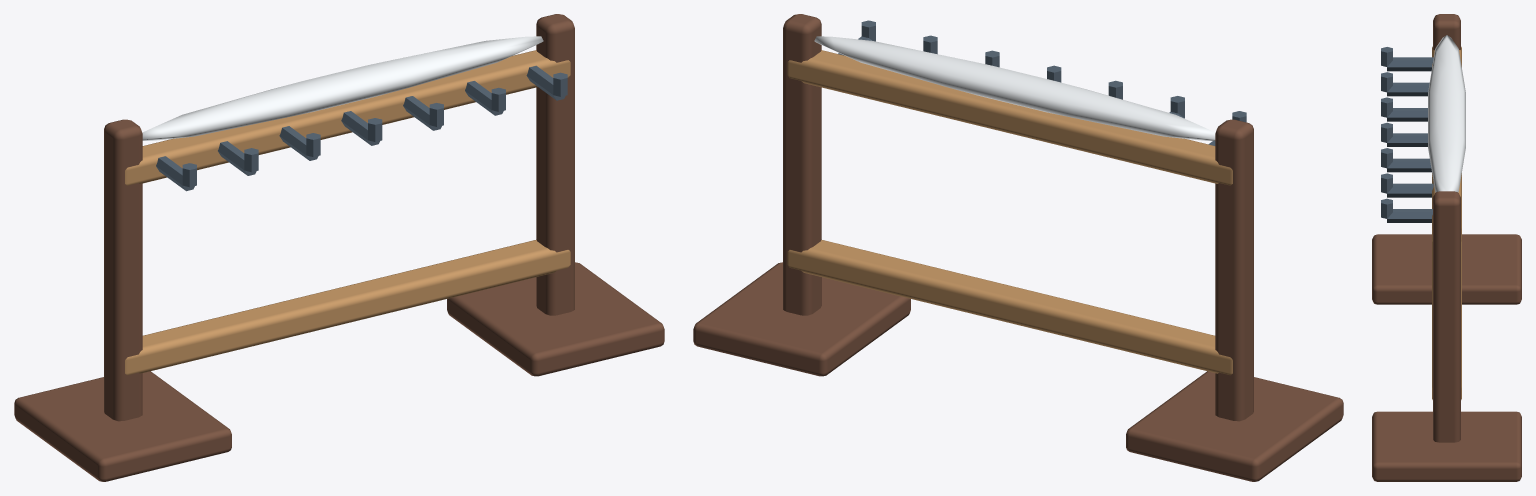
File: alpine-snow-village-seven-bay-ski-rack-403c4e06__19833.glb
3 renders of one model, left to right at view 1: azimuth 30°, elevation 25°; view 2: azimuth 150°, elevation 25°; view 3: azimuth 270°, elevation 25°, orthographic. The views are drawn at different scales.
Parts seen in each view (by area): view 1: seven-bay-ski-rack-wood, seven-bay-ski-rack-oak, seven-bay-ski-rack-snow, seven-bay-ski-rack-iron; view 2: seven-bay-ski-rack-wood, seven-bay-ski-rack-oak, seven-bay-ski-rack-snow, seven-bay-ski-rack-iron; view 3: seven-bay-ski-rack-wood, seven-bay-ski-rack-iron, seven-bay-ski-rack-snow, seven-bay-ski-rack-oak.
Boxes of the visible parts, x1,y1,x2,y2 form: seven-bay-ski-rack-wood: (14, 14, 664, 481); seven-bay-ski-rack-oak: (125, 50, 570, 375); seven-bay-ski-rack-snow: (142, 36, 543, 140); seven-bay-ski-rack-iron: (156, 65, 567, 191); seven-bay-ski-rack-wood: (693, 14, 1343, 481); seven-bay-ski-rack-oak: (787, 50, 1232, 375); seven-bay-ski-rack-snow: (814, 36, 1215, 140); seven-bay-ski-rack-iron: (838, 20, 1246, 145); seven-bay-ski-rack-wood: (1372, 14, 1521, 481); seven-bay-ski-rack-iron: (1381, 47, 1433, 222); seven-bay-ski-rack-snow: (1428, 35, 1465, 192); seven-bay-ski-rack-oak: (1432, 46, 1461, 399).
Bounding box in the file's own units: 2.75 × 1.45 × 0.75.
